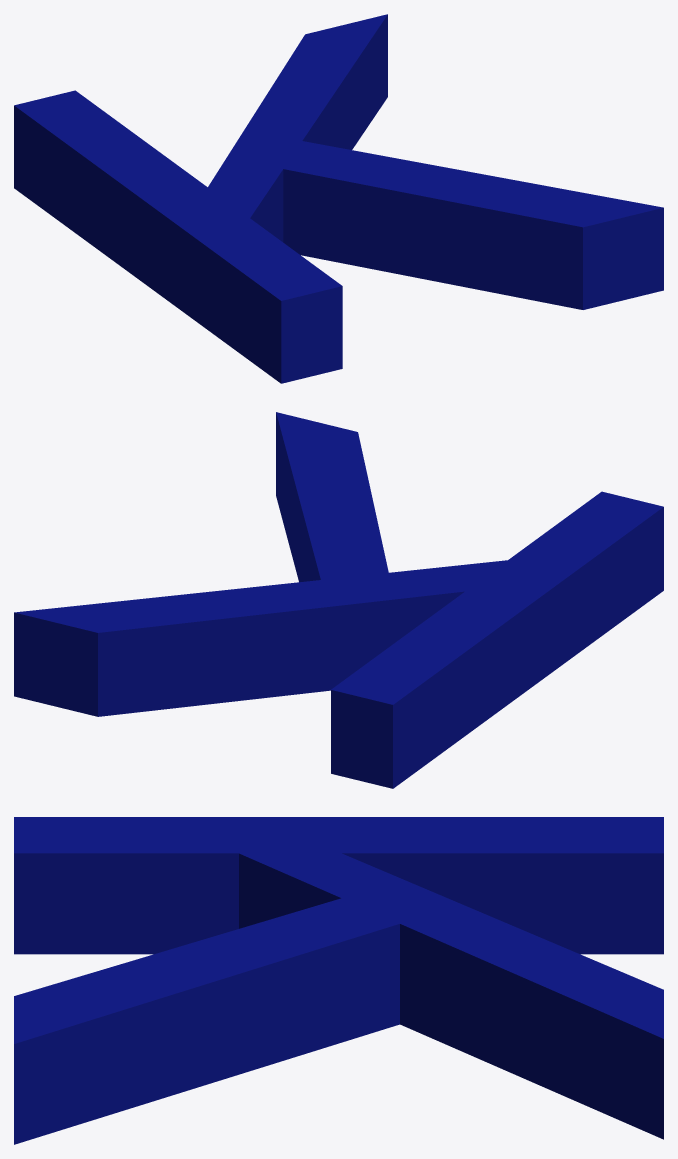
3 views of the same model, one above another, from view 1: azimuth 30°, elevation 25°; view 2: azimuth 150°, elevation 25°; view 3: azimuth 270°, elevation 25° (orthographic). The views are drawn at different scales.
Visible parts, largest first — view 1: TextPlus011; view 2: TextPlus011; view 3: TextPlus011.
Part boxes in pixels (box(x1,y1,x2,y2)): TextPlus011: box(14, 14, 663, 383); TextPlus011: box(14, 412, 663, 788); TextPlus011: box(14, 817, 663, 1144).
Size of the model in its own units: 21.2 by 4.38 by 25.64.
